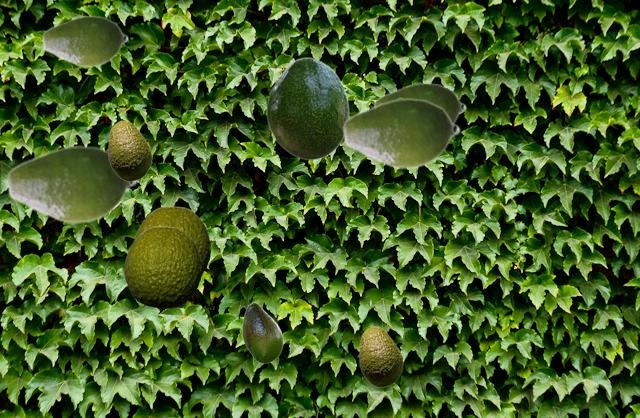avocado: (5, 143, 137, 224), (341, 96, 460, 169), (266, 57, 348, 159), (124, 226, 200, 307), (134, 206, 209, 276), (41, 14, 128, 67), (372, 81, 466, 122), (357, 326, 402, 386), (106, 120, 151, 180), (242, 302, 282, 362)
